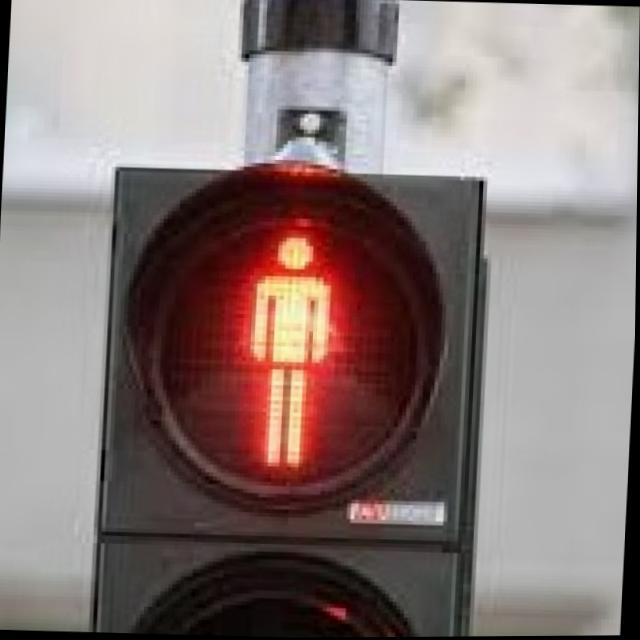red_light: (195, 199, 382, 474)
